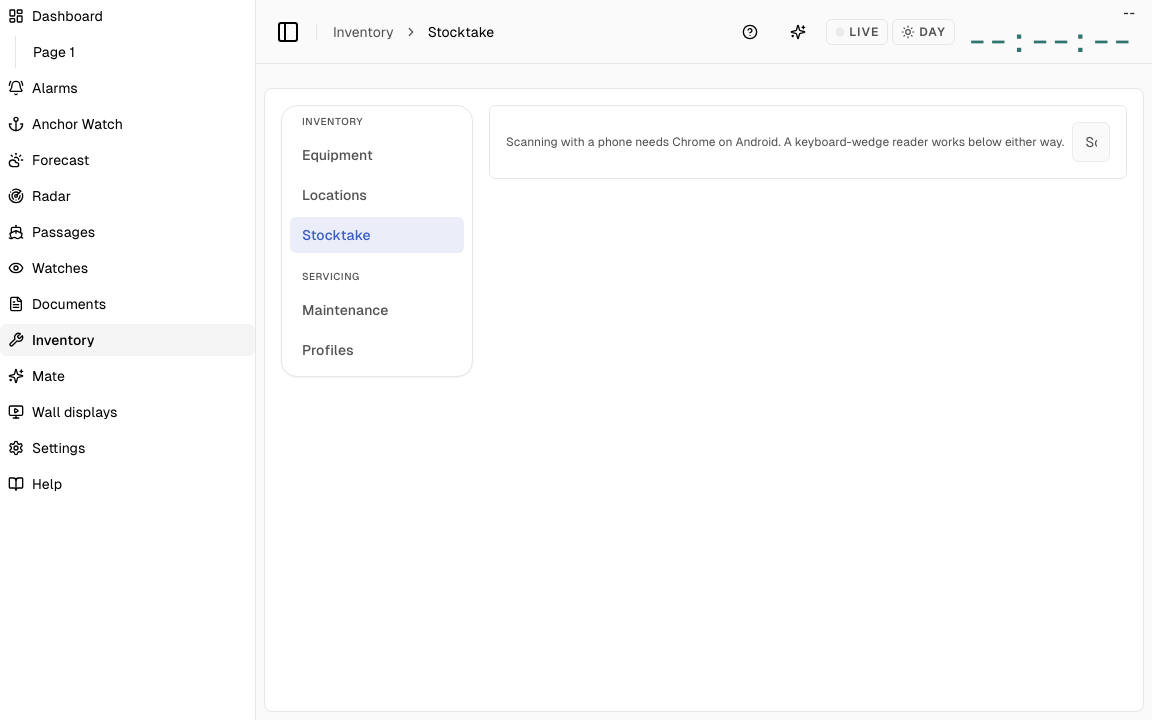
Test case: App: Open/Full item guards against losing stocktake or quick-add work › Open mid-stocktake asks first; Stay keeps the confirmed scan; Leave opens the editor
The image size is (1152, 720).
Type "https://boat.example/inventory/bins/LAZ-02" into the field labelled "Scan". click: (1091, 142)
box: [1072,122,1110,162]
Press Enter in the field named "Scan", box [1072,122,1110,162]
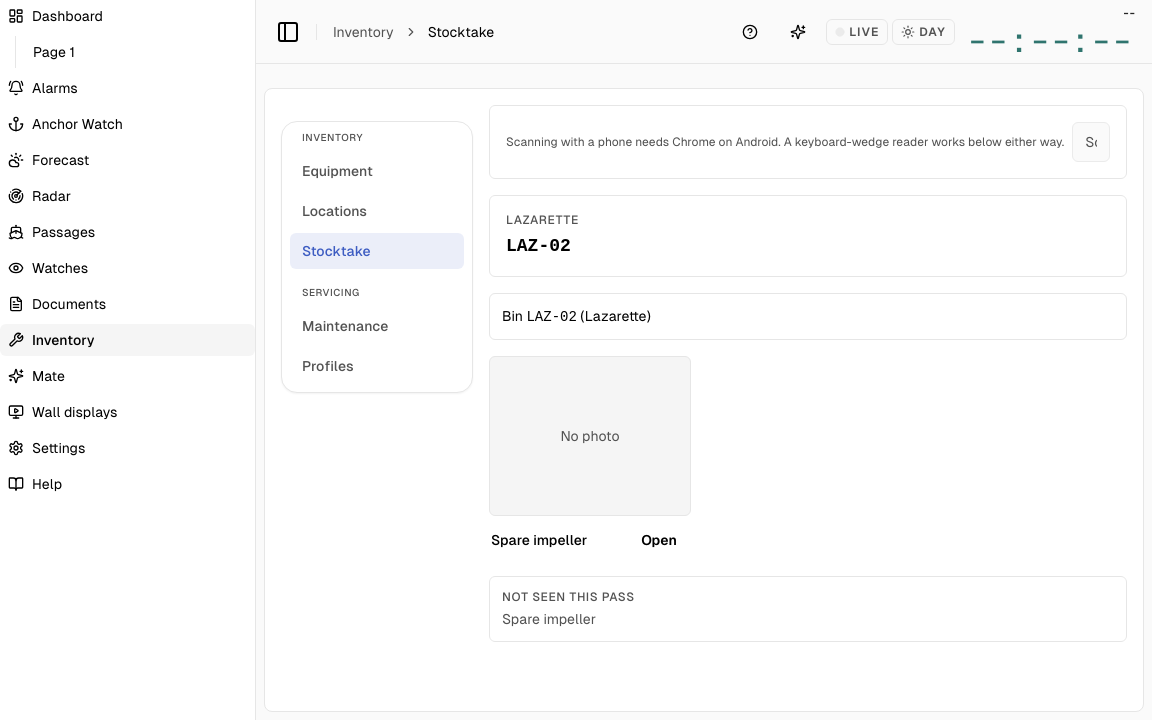
expect the heading "LAZ-02" is shown: met, box [506,236,571,256]
Type "https://boat.example/inventory/equipment/eq-1" into the field labelled "Scan". click: (1091, 142)
box: [1072,122,1110,162]
Press Enter in the field named "Scan", box [1072,122,1110,162]
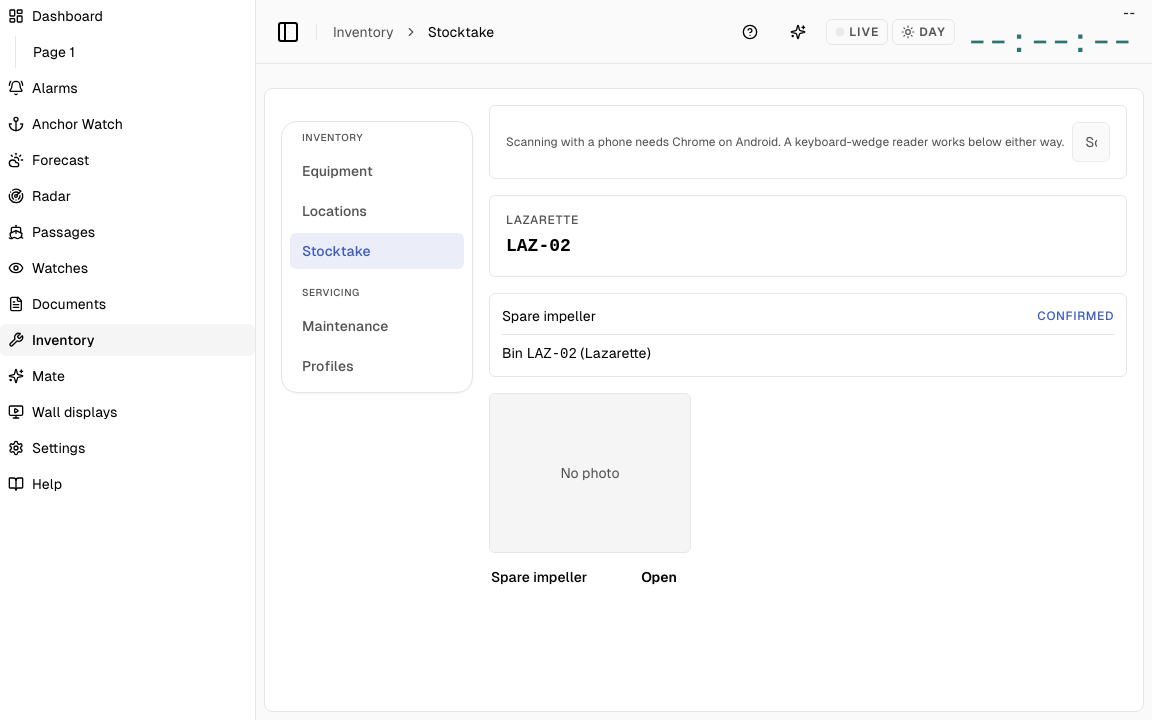
expect the text "Confirmed" is shown: met, box [1037,308,1114,324]
Click the button "Open". click: (659, 577)
box: [629,557,689,597]
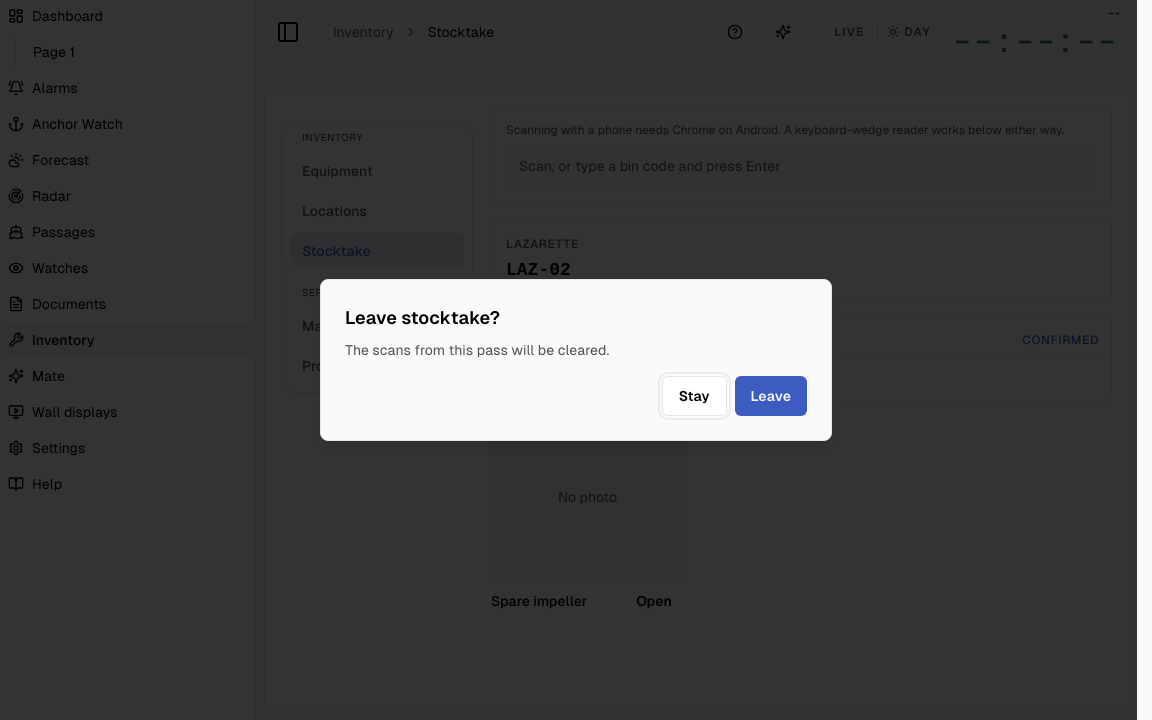
expect the field labelled "Name" is not shown: met
expect the heading "Leave stocktake?" is shown: met, box [345,307,500,328]
expect the text "The scans from this pass will be cleared." is shown: met, box [345,342,609,358]
Click the button "Stay". click: (694, 396)
box: [662,376,727,416]
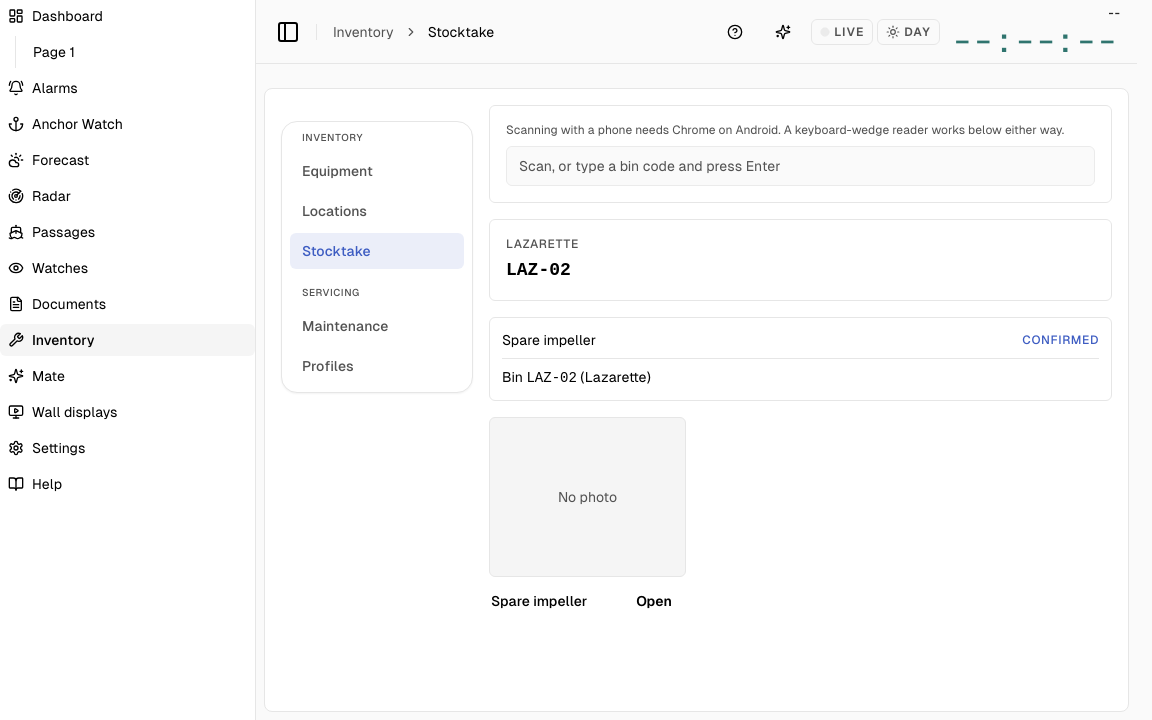
expect the text "Confirmed" is shown: met, box [1022,332,1099,348]
expect the heading "Leave stocktake?" is gone: met
Click the button "Open". click: (654, 601)
box: [624,581,684,621]
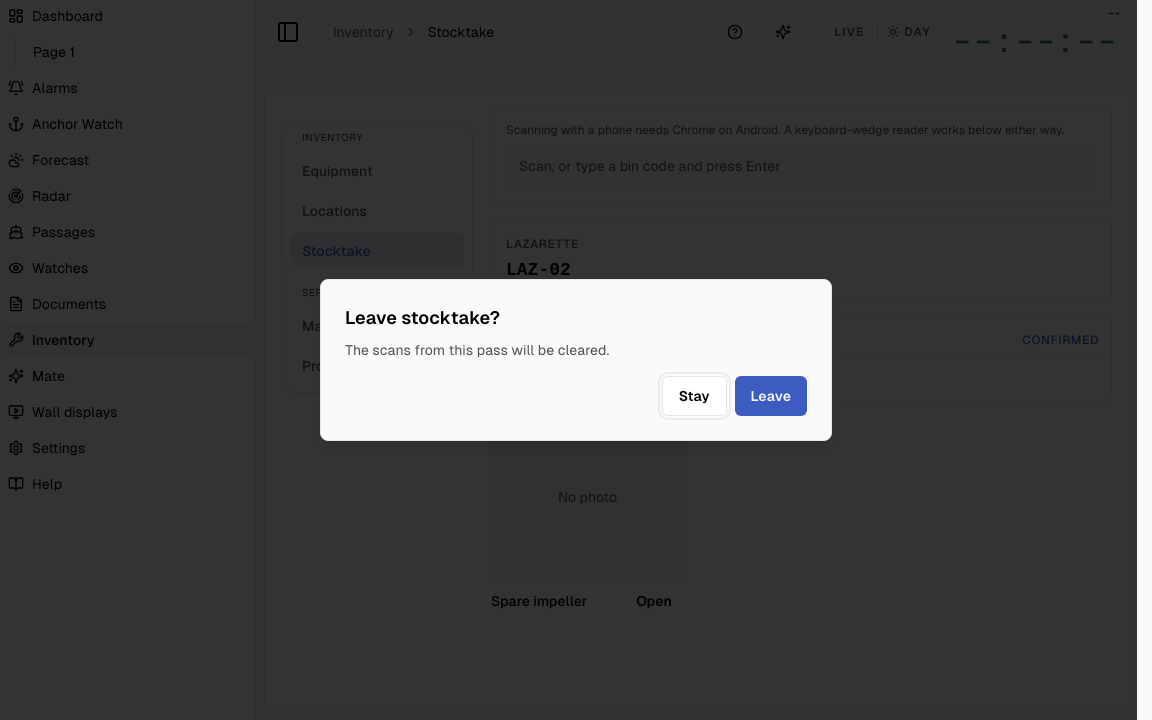
expect the heading "Leave stocktake?" is shown: met, box [345,307,500,328]
Click the button "Leave". click: (771, 396)
box: [735,376,807,416]
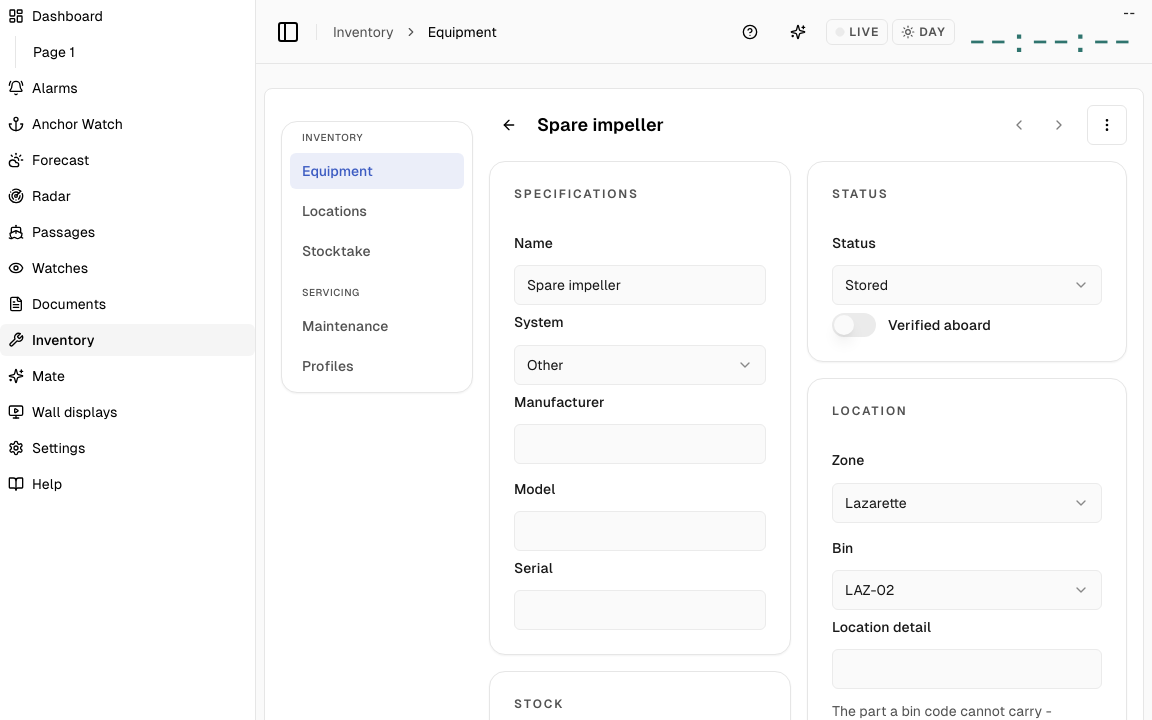
expect the field labelled "Name" holds "Spare impeller": met, box [514,265,766,305]
